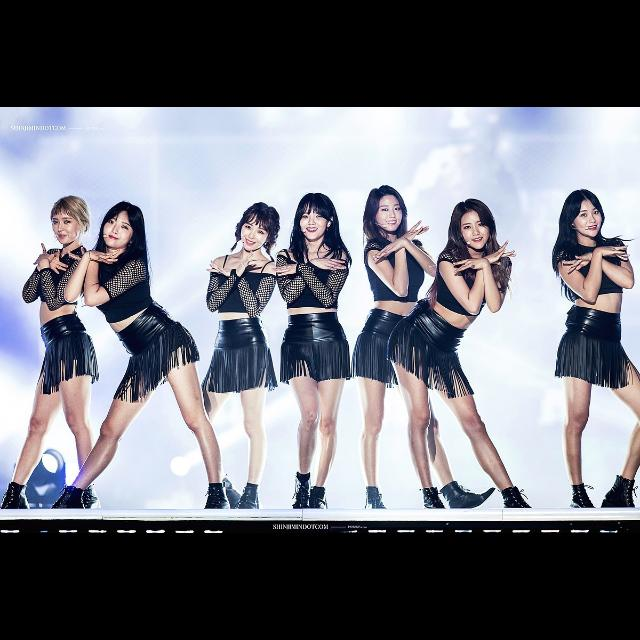head: (100, 200, 146, 250), (50, 194, 90, 246), (456, 200, 494, 252), (568, 189, 604, 239), (240, 204, 276, 253), (298, 194, 334, 242), (370, 187, 404, 233)
person: (44, 200, 236, 530), (382, 197, 544, 531), (348, 183, 452, 531), (0, 193, 98, 529), (188, 200, 282, 530), (268, 190, 356, 530)
